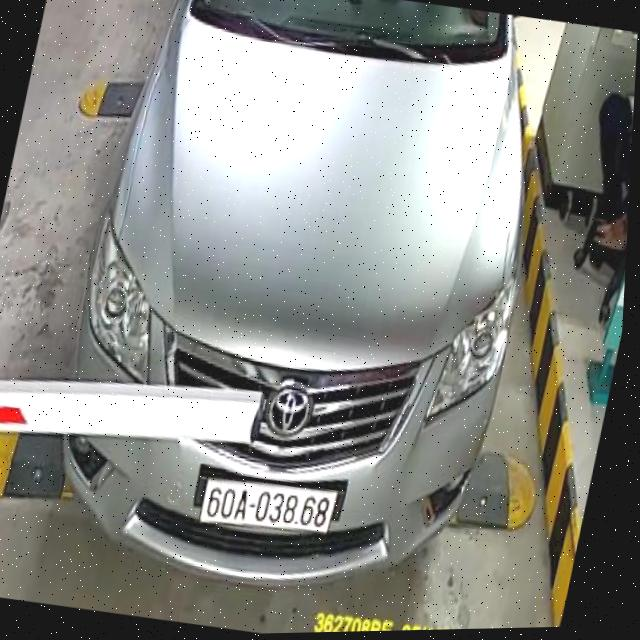car: (24, 0, 585, 623)
plate: (192, 467, 345, 545)
